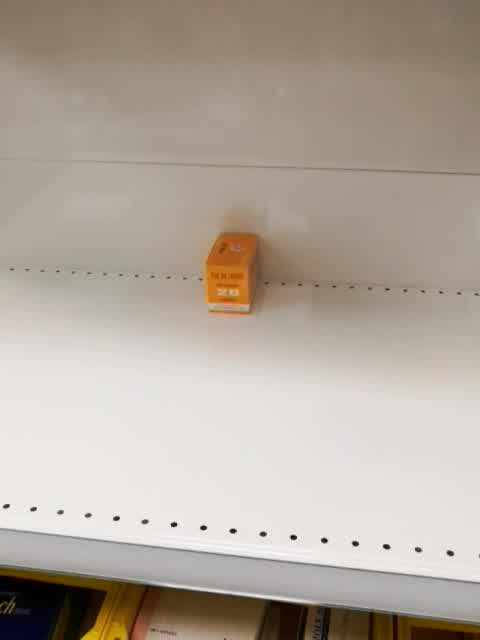jasminetea: (203, 232, 257, 315)
